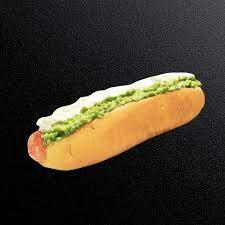Completos: (23, 63, 207, 168)
